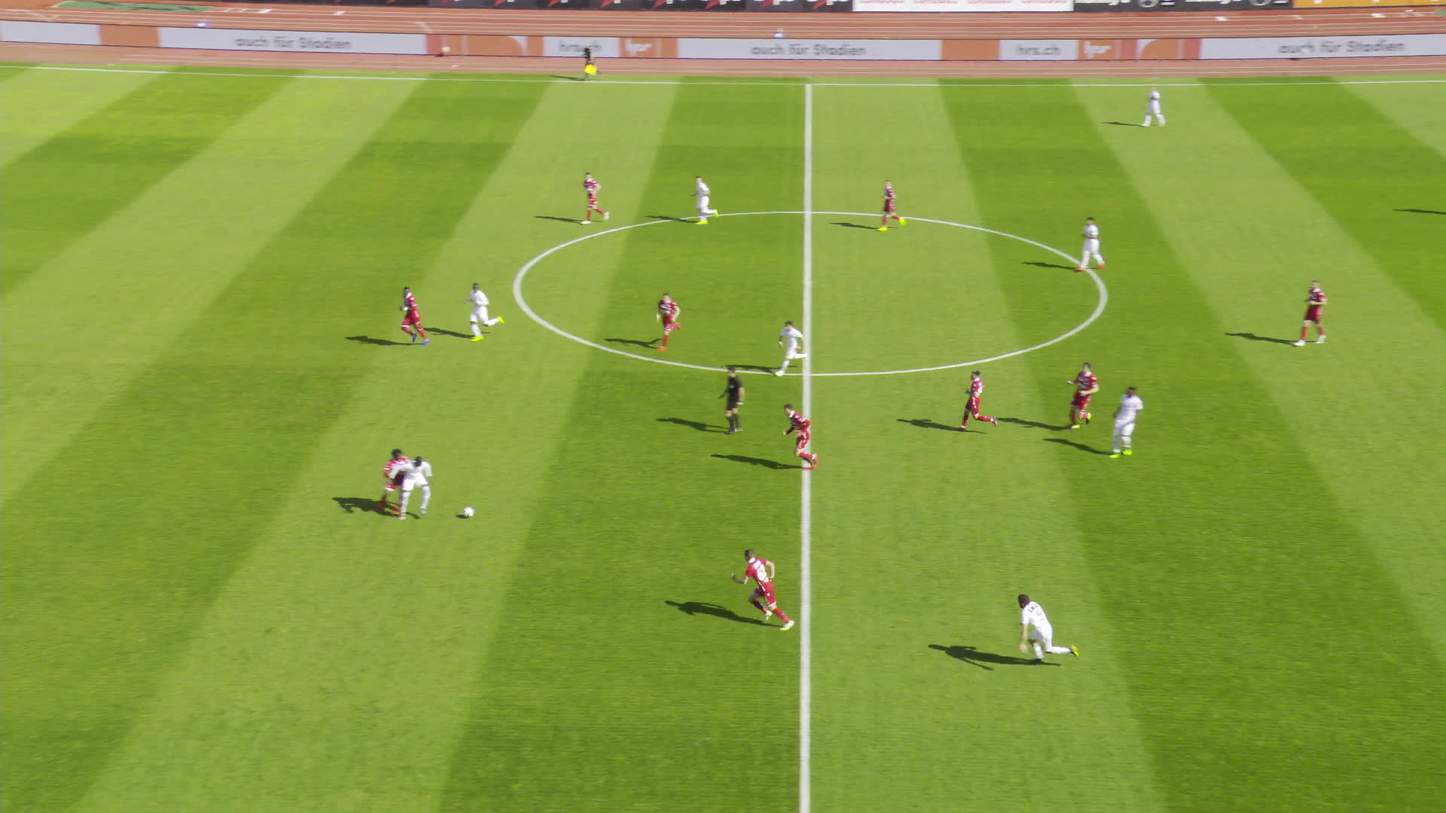ball: (471, 507, 482, 516)
player: (728, 550, 784, 629), (1017, 593, 1078, 663), (377, 455, 427, 522), (779, 403, 827, 470), (1055, 358, 1093, 431), (951, 369, 992, 431), (1097, 386, 1132, 458), (365, 446, 401, 515), (459, 281, 499, 340), (1289, 281, 1318, 345), (682, 175, 714, 224), (773, 319, 802, 373), (649, 291, 676, 349), (571, 172, 599, 225), (394, 289, 419, 348), (869, 179, 895, 230), (1070, 217, 1094, 269), (1135, 87, 1155, 127)
referee: (709, 367, 739, 434), (571, 44, 592, 81)
